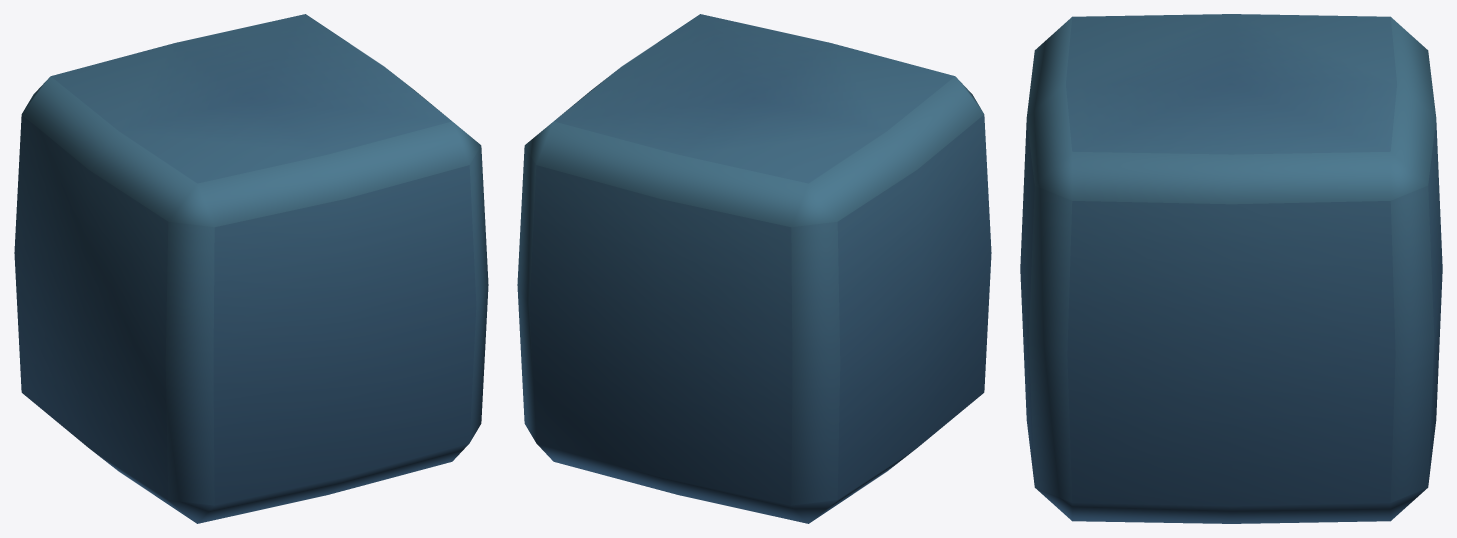
File: cube_50cm_dark.fbx
3 renders of one model, left to right at view 1: azimuth 30°, elevation 25°; view 2: azimuth 150°, elevation 25°; view 3: azimuth 270°, elevation 25°, orthographic. The views are drawn at different scales.
Parts seen in each view (by area): view 1: cube_50cm_dark; view 2: cube_50cm_dark; view 3: cube_50cm_dark.
Boxes of the visible parts, bbox=[...] form: cube_50cm_dark: bbox=[14, 14, 488, 523]; cube_50cm_dark: bbox=[517, 14, 991, 523]; cube_50cm_dark: bbox=[1020, 14, 1442, 523].
Bounding box in the file's own units: 56.86 × 55.02 × 57.01.
